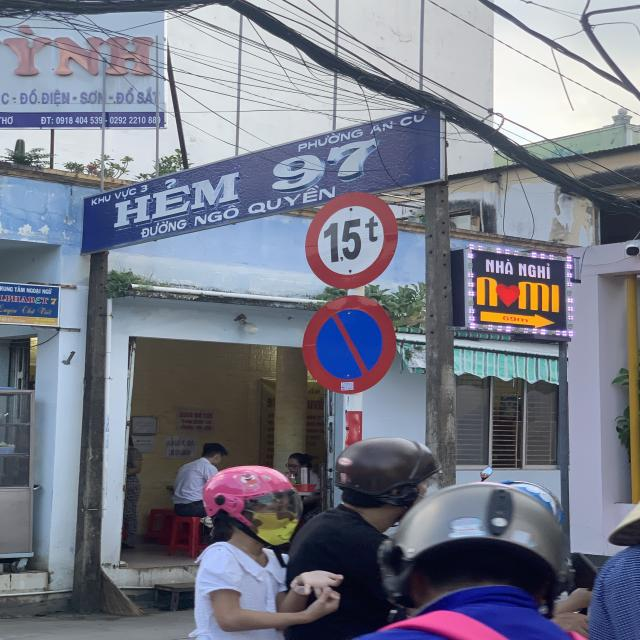Cam_Dau_Xe: (301, 294, 400, 394)
